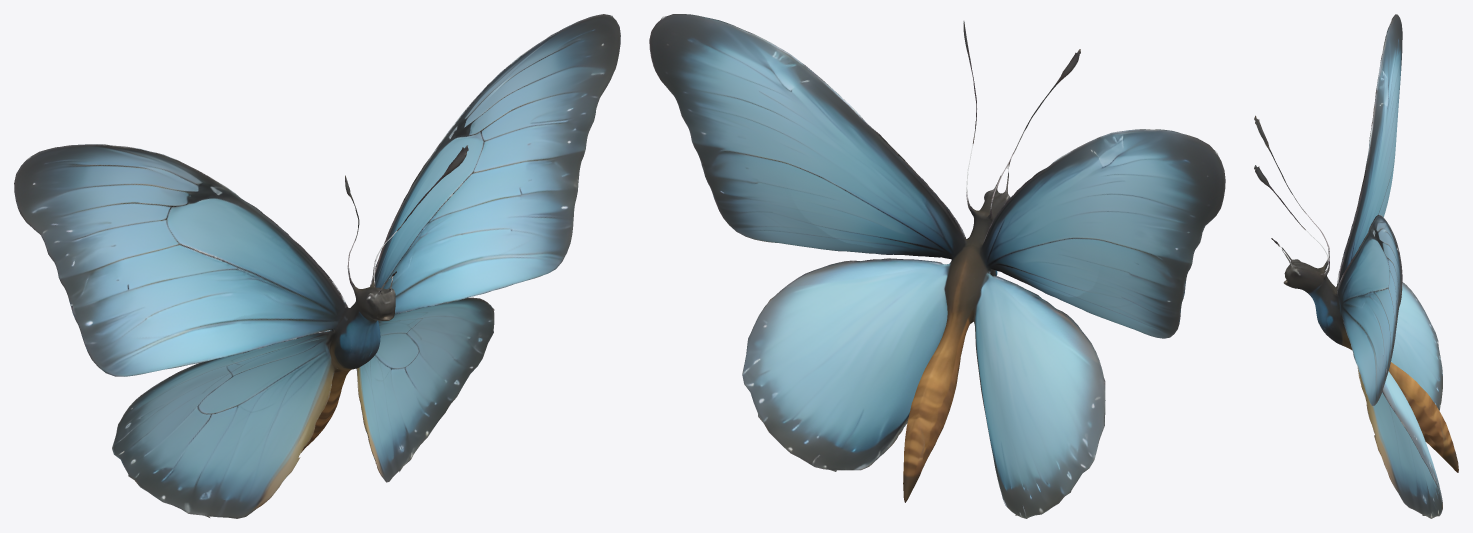
Rendered from karnerBlueButterfly.glb.
3 views of the same model, side by side, from view 1: azimuth 30°, elevation 25°; view 2: azimuth 150°, elevation 25°; view 3: azimuth 270°, elevation 25° (orthographic). The views are drawn at different scales.
Visible parts, largest first — view 1: model; view 2: model; view 3: model.
Boxes of the visible parts, box(x1,y1,x2,y2) form: model: box(14, 14, 620, 518); model: box(649, 14, 1225, 518); model: box(1254, 14, 1458, 518).
Bounding box in the file's own units: 1.89 × 1.27 × 0.6714.
Materials: 1 (1 with a texture image).
